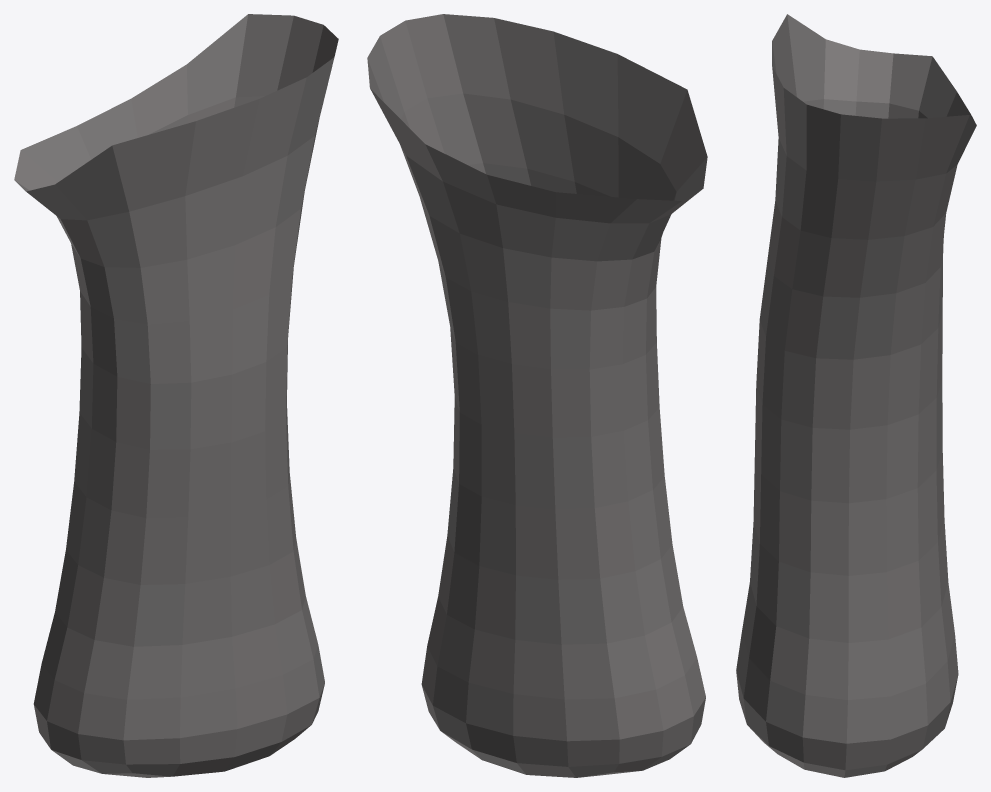
The model's file is IzqTrasDos.obj.
3 views of the same model, side by side, from view 1: azimuth 30°, elevation 25°; view 2: azimuth 150°, elevation 25°; view 3: azimuth 270°, elevation 25° (orthographic). The views are drawn at different scales.
Visible parts, largest first — view 1: IzqTras1:Mesh1; view 2: IzqTras1:Mesh1; view 3: IzqTras1:Mesh1.
Part boxes in pixels (<box>): IzqTras1:Mesh1: <box>14,14,338,777</box>; IzqTras1:Mesh1: <box>367,14,707,777</box>; IzqTras1:Mesh1: <box>736,14,976,777</box>.
Size of the model in its own units: 0.4452 by 0.9431 by 0.2926.
Materials: 1 (1 with a texture image).
